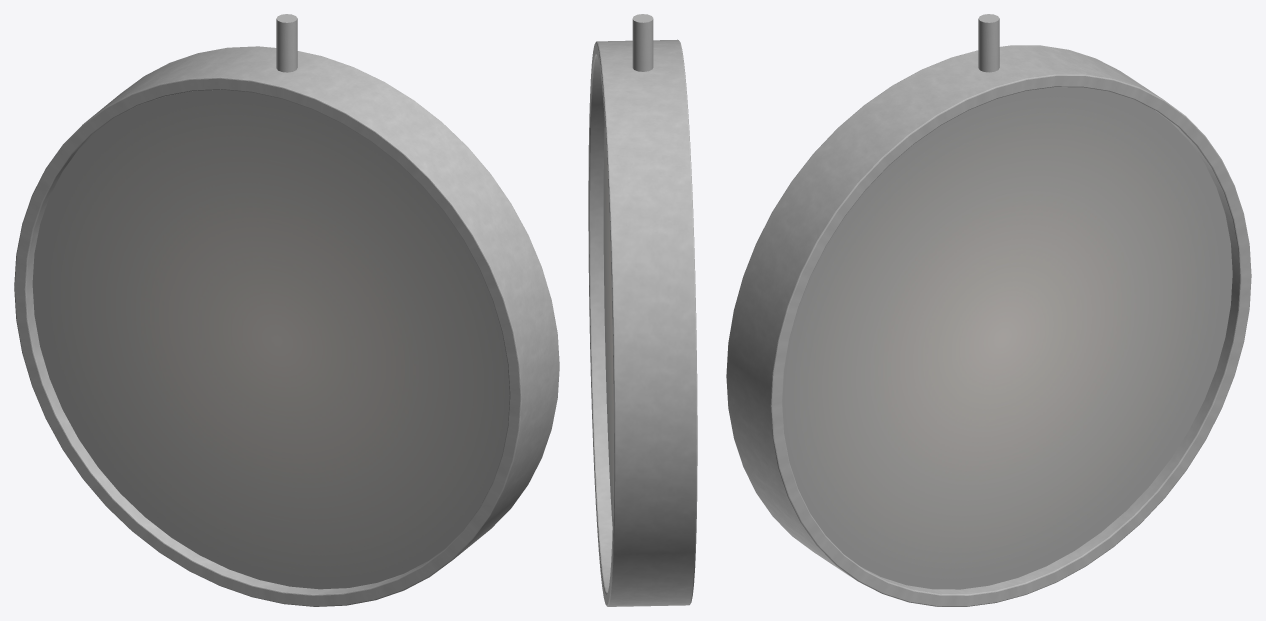
File: SBBUhr.fbx
3 views of the same model, side by side, from view 1: azimuth 30°, elevation 25°; view 2: azimuth 150°, elevation 25°; view 3: azimuth 270°, elevation 25° (orthographic).
Parts seen in each view (by area): view 1: Uhr_10_1; view 2: Uhr_10_1; view 3: Uhr_10_1.
Part boxes in pixels (x1,y1,x2,y2): Uhr_10_1: (14, 14, 559, 606); Uhr_10_1: (588, 14, 697, 606); Uhr_10_1: (726, 14, 1251, 606).
Bounding box in the file's own units: 33.2 × 54.88 × 46.17.
